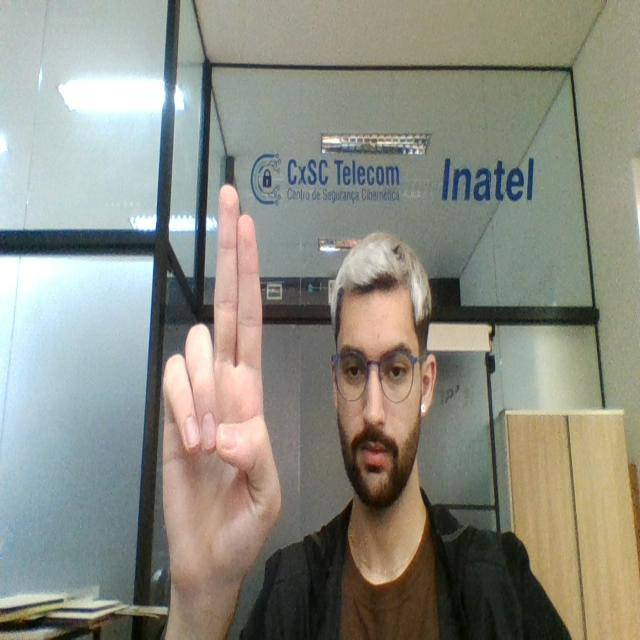U: (155, 183, 287, 581)
